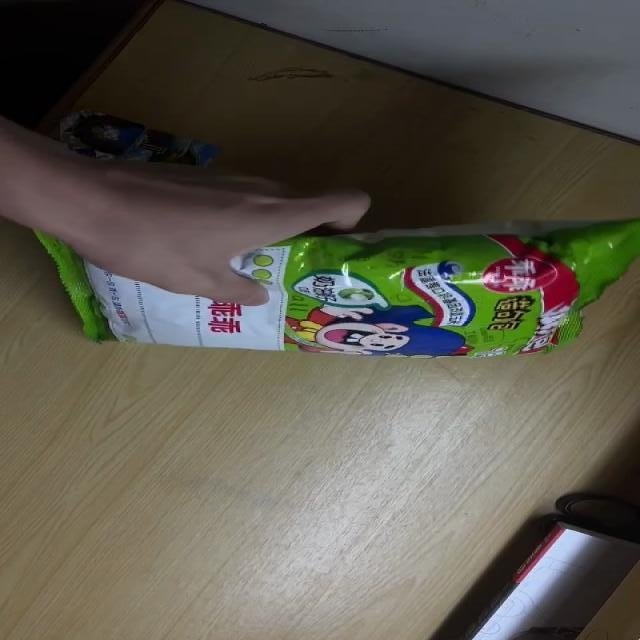Good-Luck: (24, 215, 640, 358)
